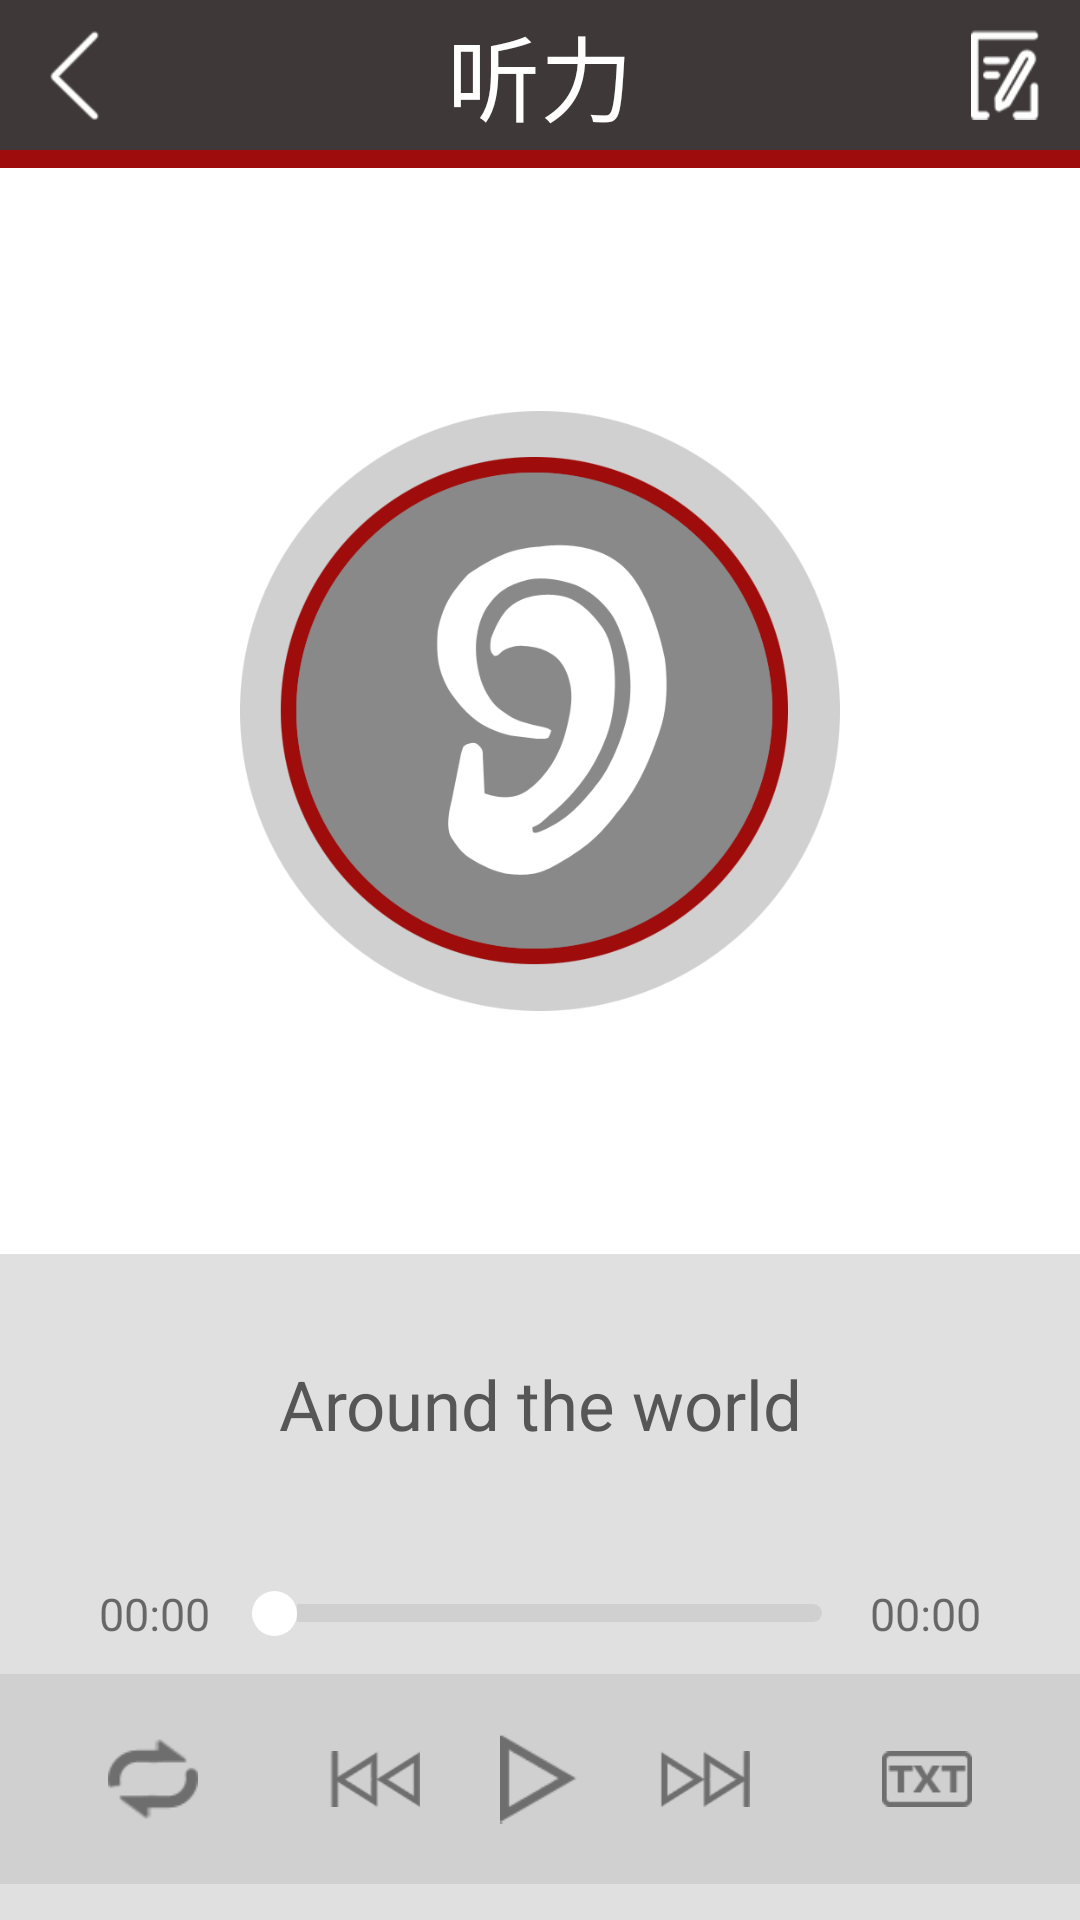

Locate icon controls on the screen. Image size 1080×1920, boxes as (x1, y1, x2, y2).
back: (50, 31, 99, 120)
cycle: (108, 1739, 198, 1819)
exercise: (971, 30, 1039, 120)
next: (661, 1751, 750, 1807)
play: (500, 1735, 575, 1824)
previous: (331, 1751, 420, 1807)
